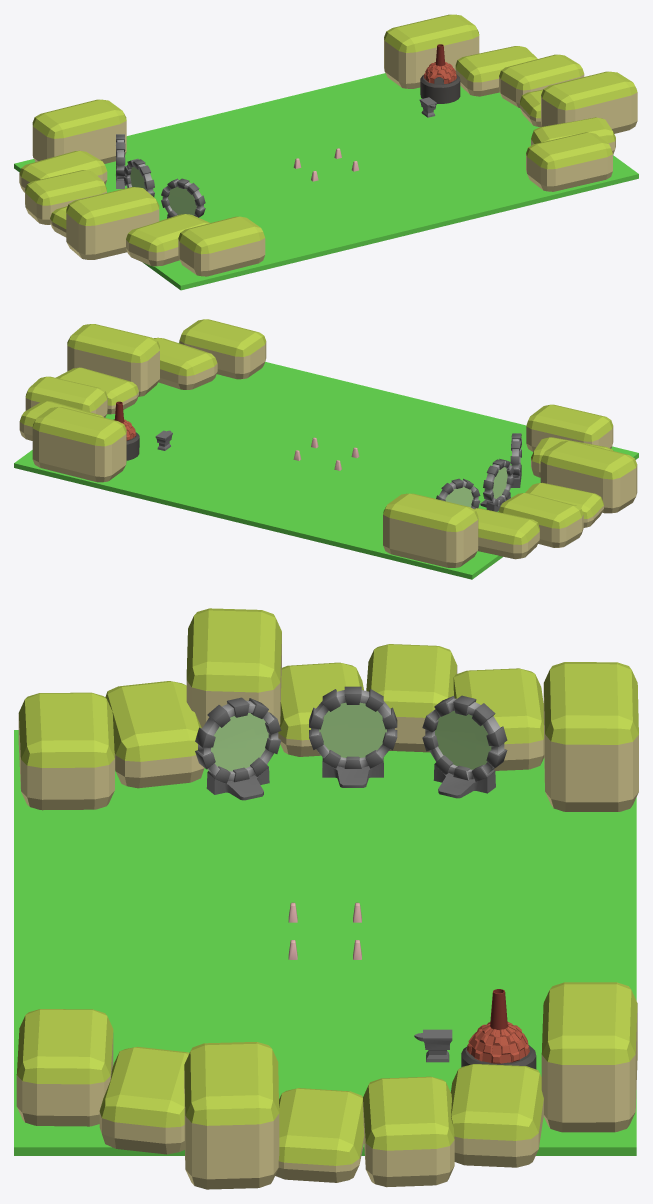
File: base stage.fbx
3 views of the same model, one above another, from view 1: azimuth 30°, elevation 25°; view 2: azimuth 150°, elevation 25°; view 3: azimuth 270°, elevation 25° (orthographic). The views are drawn at different scales.
Parts seen in each view (by area): view 1: Cube.043, Cube.041, Sphere.001, Cube.045, Cube.044, Cube.042; view 2: Cube.043, Cube.041, Cube.044, Cube.042, Sphere.001, Cube.045; view 3: Cube.043, Cube.041, Cube.044, Cube.045, Cube.042, Sphere.001, Cube.046.
Boxes of the visible parts, x1,y1,x2,y2 form: Cube.043: [14, 73, 638, 290]; Cube.041: [19, 14, 637, 276]; Sphere.001: [420, 44, 460, 103]; Cube.045: [161, 178, 205, 218]; Cube.044: [123, 158, 154, 196]; Cube.042: [116, 134, 126, 188]; Cube.043: [14, 342, 638, 579]; Cube.041: [19, 319, 637, 567]; Cube.044: [480, 458, 514, 511]; Cube.042: [436, 478, 480, 508]; Sphere.001: [113, 401, 139, 460]; Cube.045: [510, 433, 521, 487]; Cube.043: [14, 730, 636, 1155]; Cube.041: [16, 608, 638, 1189]; Cube.044: [309, 686, 397, 787]; Cube.045: [195, 697, 281, 800]; Cube.042: [422, 695, 507, 798]; Sphere.001: [461, 989, 536, 1069]; Cube.046: [414, 1029, 452, 1062].
Bounding box in the file's own units: 72.97 × 6.86 × 38.
